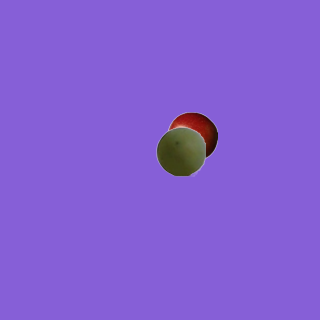Apple Braeburn: (167, 111, 217, 161)
Grape White 4: (155, 126, 205, 176)
